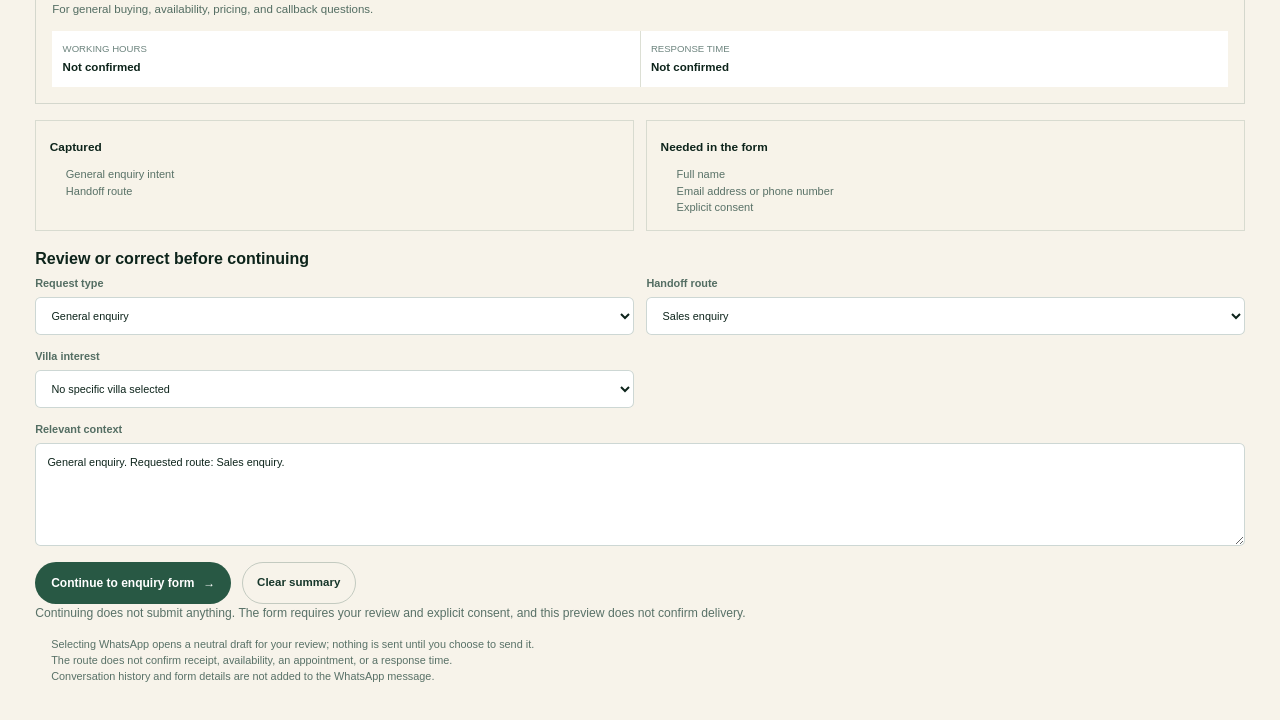
Test: DynamicPreviewPanel › lets the user clear the prepared summary
(page scrolled)
Click the button "Clear summary" at coordinates (299, 583), box [242, 562, 356, 604]
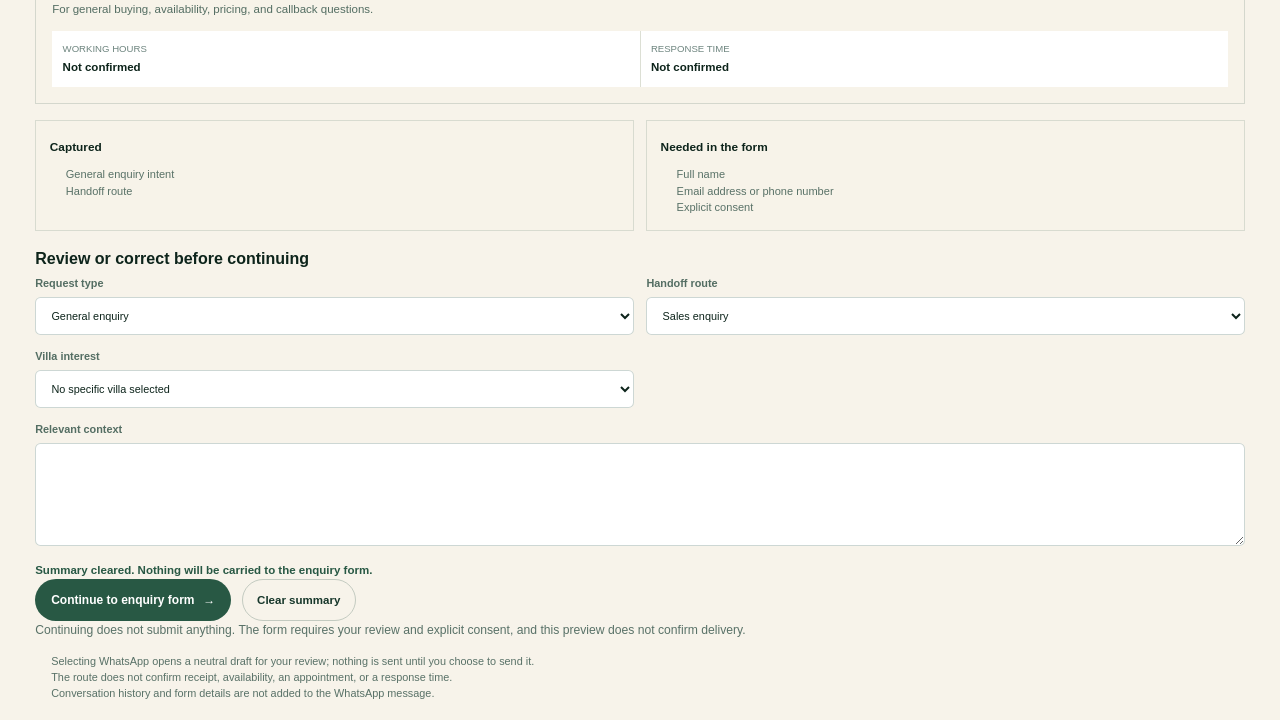
Result: the message shows "Summary cleared" at [35, 564, 372, 576]
Result: the text box labelled "Relevant context" is empty at [35, 443, 1245, 546]
